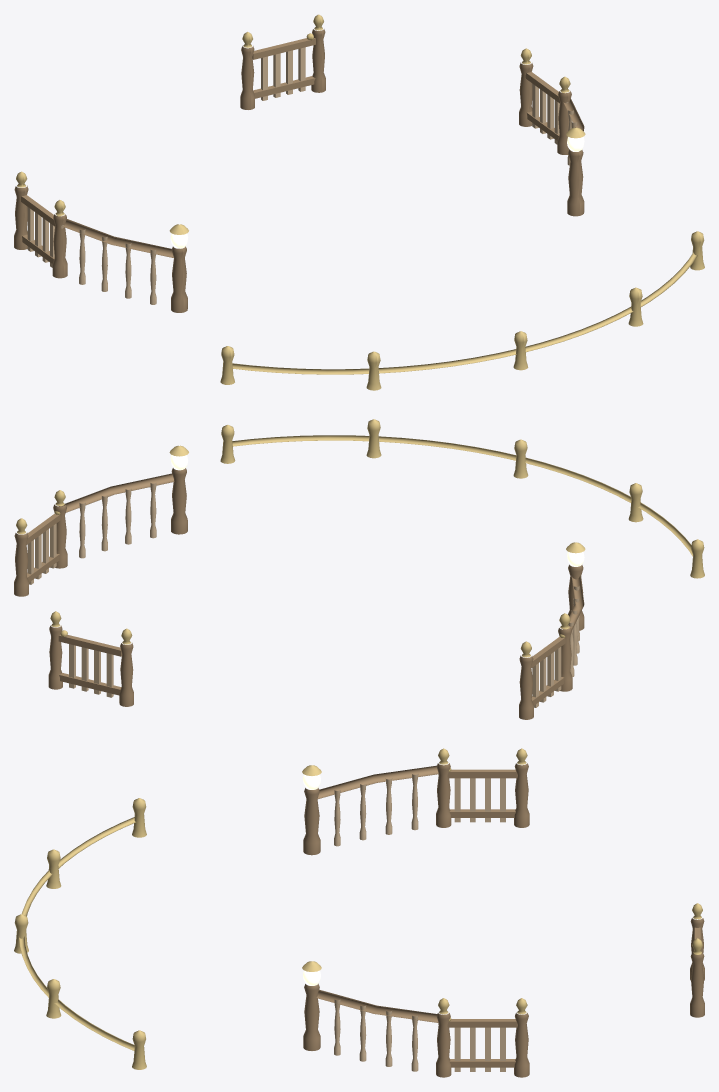
File: atrium_balustrades.glb
The picture shows the model from 3 angles, top to bottom: view 1: azimuth 30°, elevation 25°; view 2: azimuth 150°, elevation 25°; view 3: azimuth 270°, elevation 25°; orthographic projection.
Parts seen in each view (by area): view 1: Atrium_Balustrades_Static, DoorPivot_door-arch-back, DoorPivot_door-switch, DoorPivot_door-memory; view 2: Atrium_Balustrades_Static, DoorPivot_door-arch-back, DoorPivot_door-memory, DoorPivot_door-switch; view 3: Atrium_Balustrades_Static, DoorPivot_door-memory, DoorPivot_door-switch.
Boxes of the visible parts, x1=… form: Atrium_Balustrades_Static: x1=14, y1=14, x2=704, y2=390; DoorPivot_door-arch-back: x1=252, y1=33, x2=315, y2=100; DoorPivot_door-switch: x1=525, y1=72, x2=565, y2=144; DoorPivot_door-memory: x1=21, y1=195, x2=60, y2=267; Atrium_Balustrades_Static: x1=14, y1=419, x2=704, y2=719; DoorPivot_door-arch-back: x1=58, y1=630, x2=121, y2=697; DoorPivot_door-memory: x1=531, y1=634, x2=565, y2=707; DoorPivot_door-switch: x1=26, y1=511, x2=60, y2=584; Atrium_Balustrades_Static: x1=14, y1=748, x2=704, y2=1077; DoorPivot_door-memory: x1=447, y1=768, x2=517, y2=822; DoorPivot_door-switch: x1=447, y1=1017, x2=517, y2=1071.
Size of the model in its own units: 4.97 by 0.79 by 5.66.
